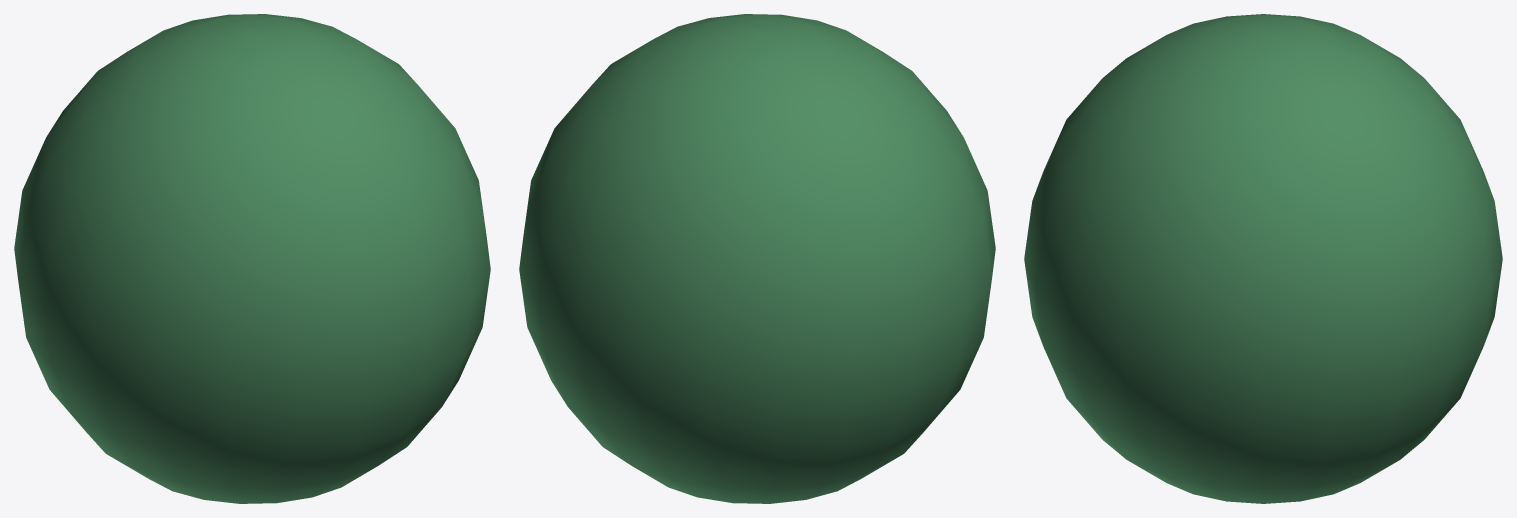
Rendered from shrub.small-old.glb.
3 views of the same model, side by side, from view 1: azimuth 30°, elevation 25°; view 2: azimuth 150°, elevation 25°; view 3: azimuth 270°, elevation 25° (orthographic).
Visible parts, largest first — view 1: bush; view 2: bush; view 3: bush.
Boxes of the visible parts, left/top/right/bottom form: bush: left=14, top=14, right=490, bottom=503; bush: left=519, top=14, right=995, bottom=503; bush: left=1024, top=14, right=1502, bottom=503.
Bounding box in the file's own units: 0.715 × 0.74 × 0.715.
